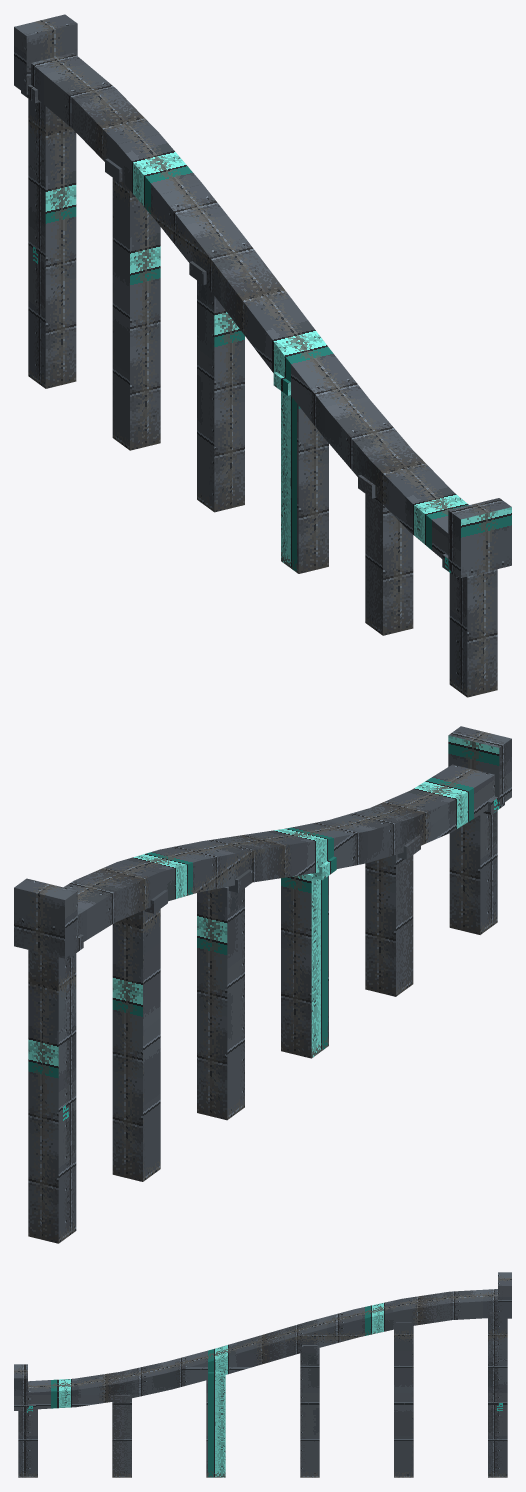
The model's file is rail_arc_rise.glb.
The picture shows the model from 3 angles, top to bottom: view 1: azimuth 30°, elevation 25°; view 2: azimuth 150°, elevation 25°; view 3: azimuth 270°, elevation 25°; orthographic projection. The views are drawn at different scales.
Parts seen in each view (by area): view 1: rail_arc_rise; view 2: rail_arc_rise; view 3: rail_arc_rise.
Boxes of the visible parts, x1,y1,x2,y2 form: rail_arc_rise: [14, 14, 511, 697]; rail_arc_rise: [14, 726, 511, 1243]; rail_arc_rise: [14, 1272, 511, 1477].
Bounding box in the file's own units: 0.42 × 2.74 × 6.36.
Materials: 2 (1 with a texture image).
